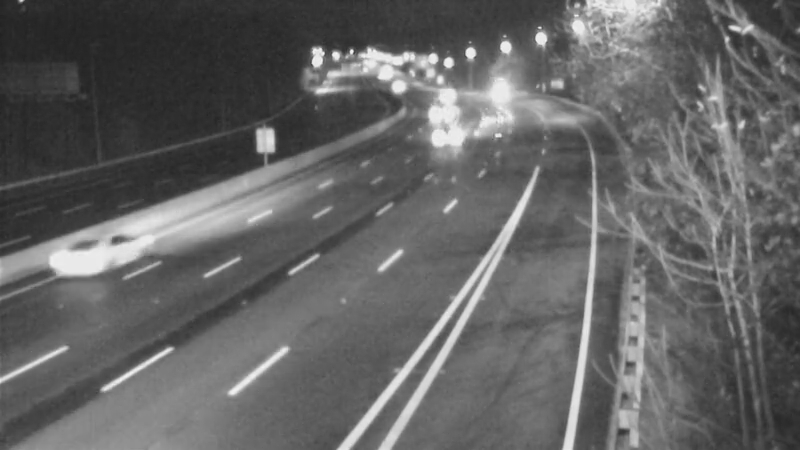vehicle: (45, 213, 125, 293), (372, 61, 422, 111), (424, 70, 474, 120), (470, 70, 520, 120), (412, 90, 462, 140), (467, 97, 517, 147), (420, 116, 470, 166)
